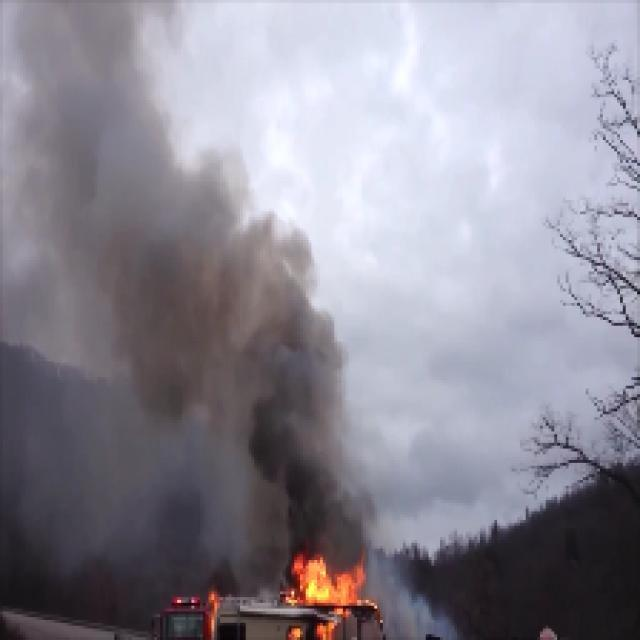Fire: (276, 555, 382, 640)
Smoke: (4, 7, 396, 540)
